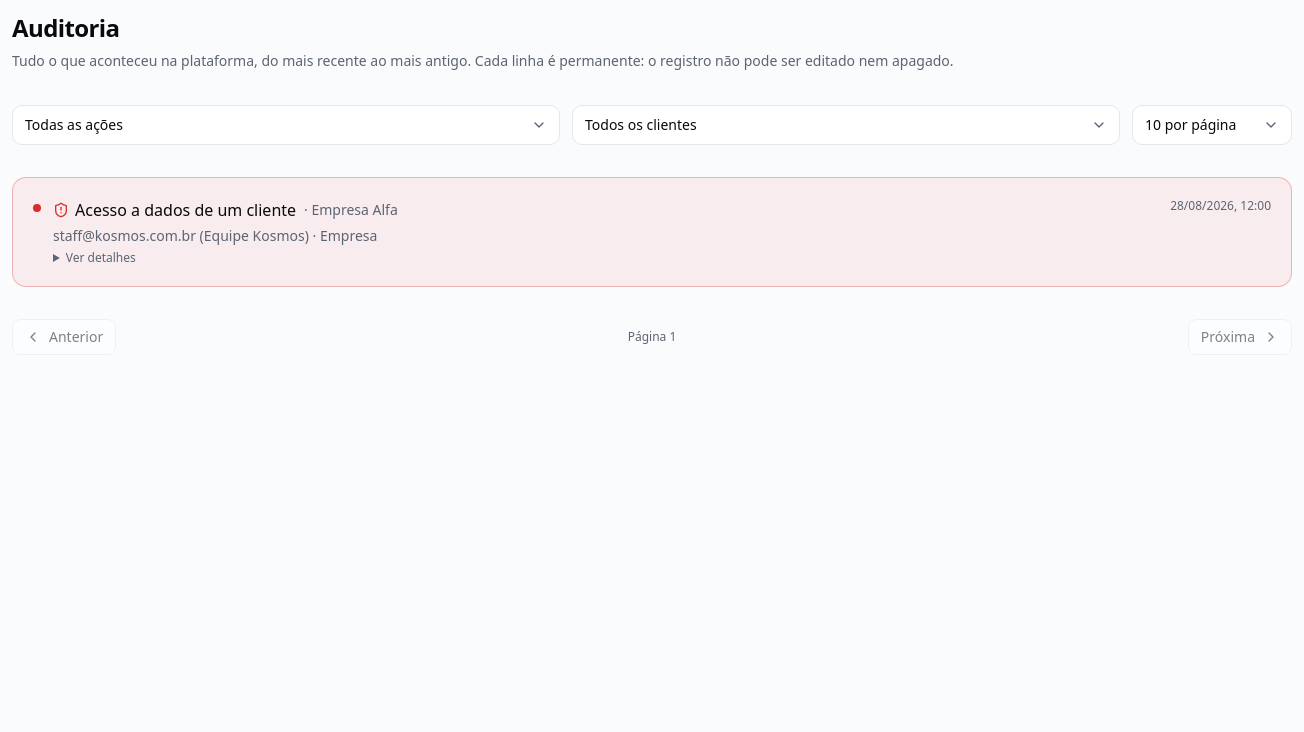
Test: AuditLogPage › flags a security event and lets its details expand
Expected: the text "Acesso a dados de um cliente" is shown, x1=53 y1=198 x2=296 y2=222
# The sanitized before/after payload is available on demand.
Click the heading "Ver detalhes".
click(101, 257)  # box x1=66 y1=249 x2=136 y2=266
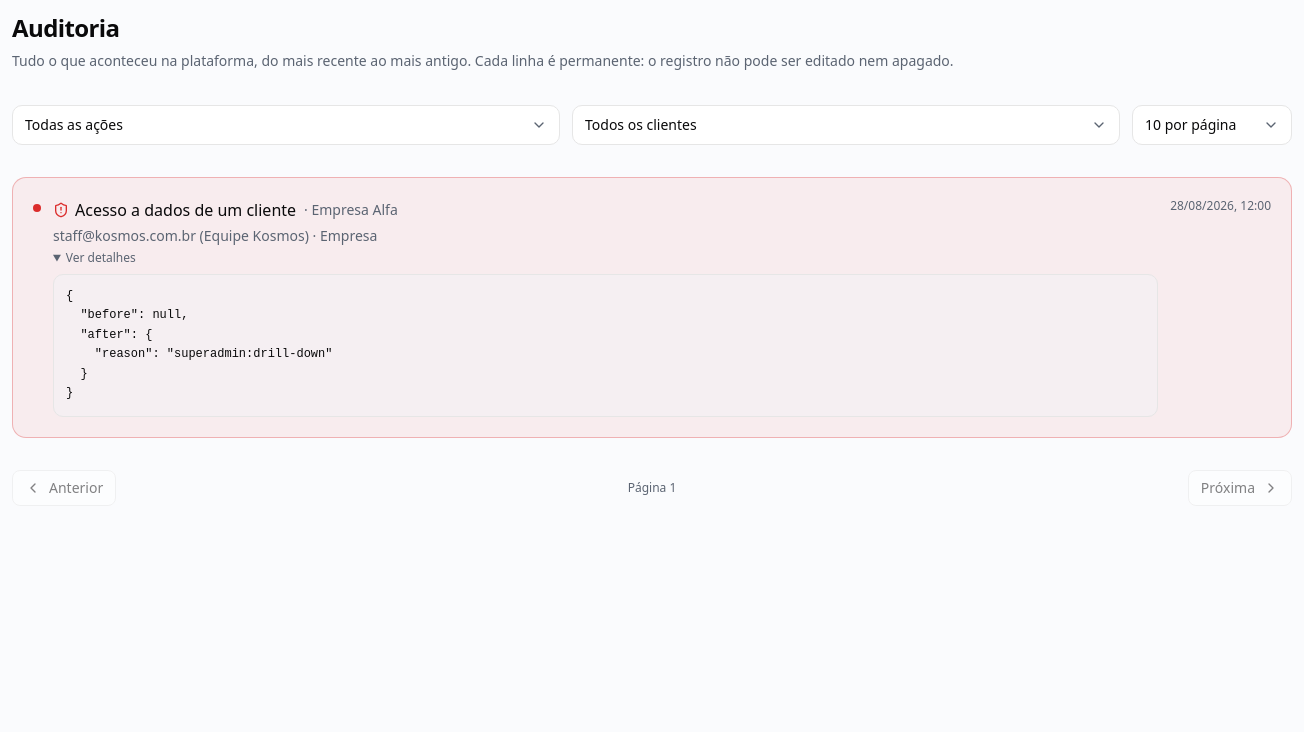
Expected: the text "superadmin:drill-down" is shown, x1=66 y1=289 x2=332 y2=400
